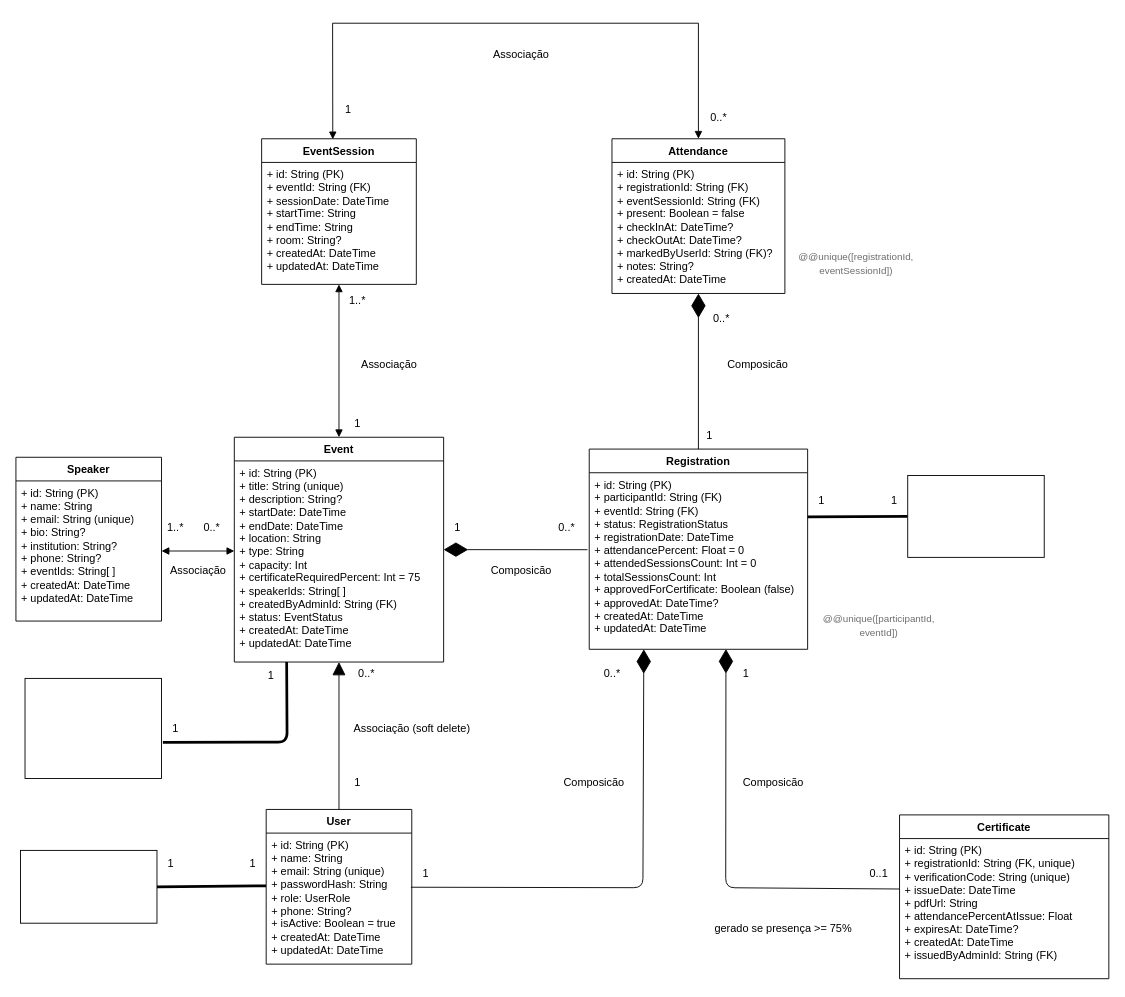
This 1125x997 diagram has some shape labels left out. Each missing label, with the box of its shape:
<<enumeration>> EventStatus CRIANDO ATIVA ENCERRADA CANCELADA: (24, 677, 162, 779)
<<enumeration>> RegistrationStatus ATIVO CANCELADO CONCLUIDO: (907, 475, 1044, 557)
<<enumeration>> UserRole ADMIN PARTICIPANTE: (20, 849, 157, 923)
